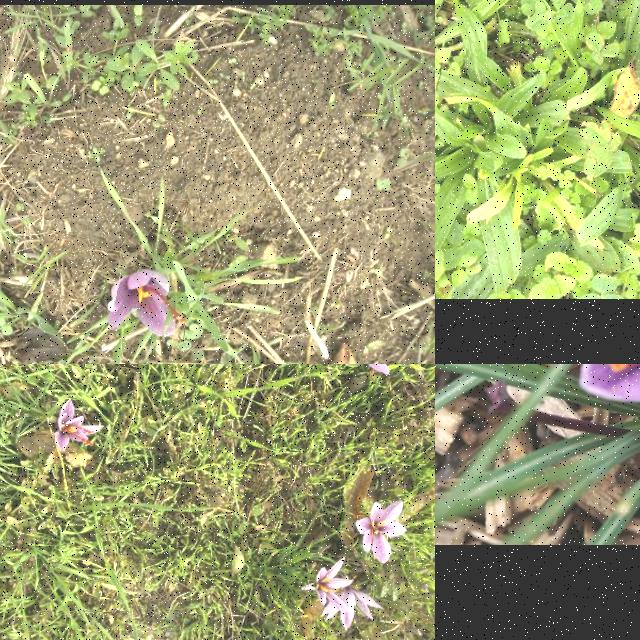flower: (108, 270, 186, 338), (356, 500, 408, 564), (302, 556, 354, 614), (320, 590, 384, 632), (55, 399, 105, 451)
